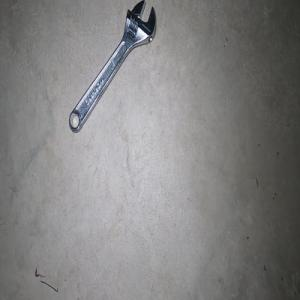Wrench: (68, 0, 155, 132)
